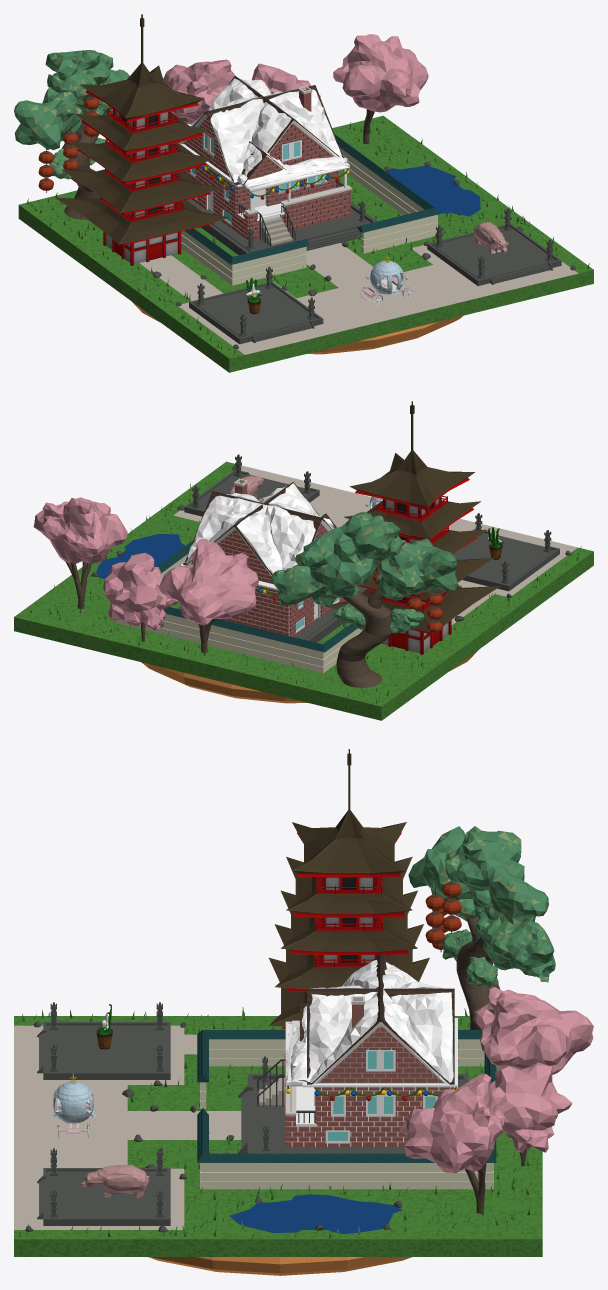
The picture shows the model from 3 angles, top to bottom: view 1: azimuth 30°, elevation 25°; view 2: azimuth 150°, elevation 25°; view 3: azimuth 270°, elevation 25°; orthographic projection. The views are drawn at different scales.
Visible parts, largest first — view 1: Cube.005, Cube.1419, UNDERGROUND_PIZZA, VEHICLES_FANTASY_CARRIAGE, ANIMAL_HIPOPOTAMO; view 2: Cube.005, Cube.1419, UNDERGROUND_PIZZA; view 3: Cube.005, Cube.1419, UNDERGROUND_PIZZA, VEHICLES_FANTASY_CARRIAGE, ANIMAL_HIPOPOTAMO.
Boxes of the visible parts, bbox=[...] form: Cube.005: bbox=[14, 14, 593, 372]; Cube.1419: bbox=[177, 76, 352, 246]; UNDERGROUND_PIZZA: bbox=[132, 302, 463, 354]; VEHICLES_FANTASY_CARRIAGE: bbox=[360, 252, 412, 305]; ANIMAL_HIPOPOTAMO: bbox=[473, 222, 508, 253]; Cube.005: bbox=[14, 401, 593, 720]; Cube.1419: bbox=[180, 478, 344, 637]; UNDERGROUND_PIZZA: bbox=[141, 650, 478, 703]; Cube.005: bbox=[14, 749, 593, 1256]; Cube.1419: bbox=[257, 953, 458, 1146]; UNDERGROUND_PIZZA: bbox=[148, 1257, 411, 1275]; VEHICLES_FANTASY_CARRIAGE: bbox=[51, 1071, 95, 1137]; ANIMAL_HIPOPOTAMO: bbox=[80, 1165, 149, 1198].
Size of the model in its own units: 4528 by 2902 by 4389.
Materials: 48 (5 with a texture image).
